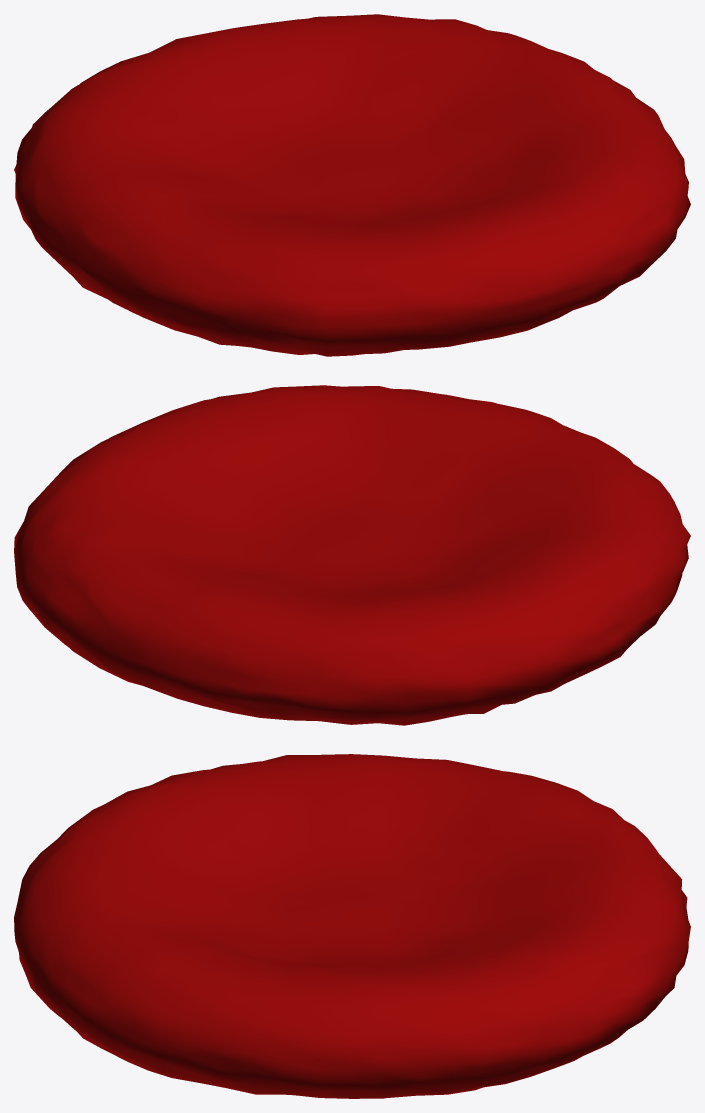
Rendered from Haemoglobin.fbx.
3 renders of one model, top to bottom at view 1: azimuth 30°, elevation 25°; view 2: azimuth 150°, elevation 25°; view 3: azimuth 270°, elevation 25°, orthographic. The views are drawn at different scales.
Parts seen in each view (by area): view 1: Cube; view 2: Cube; view 3: Cube.
Boxes of the visible parts, box(x1,y1,x2,y2) form: Cube: box(14, 14, 690, 356); Cube: box(14, 385, 690, 725); Cube: box(14, 754, 690, 1098).
Size of the model in its own units: 169 by 29.72 by 168.
